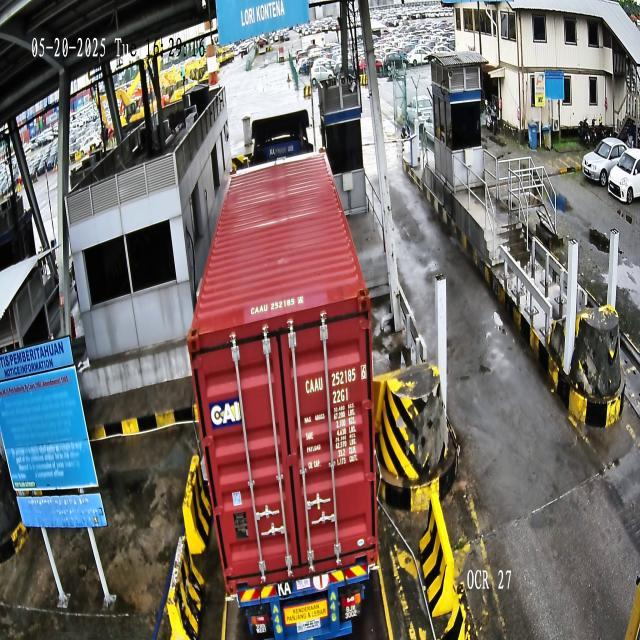ISO: (332, 388, 349, 404)
container_number: (306, 363, 368, 396)
